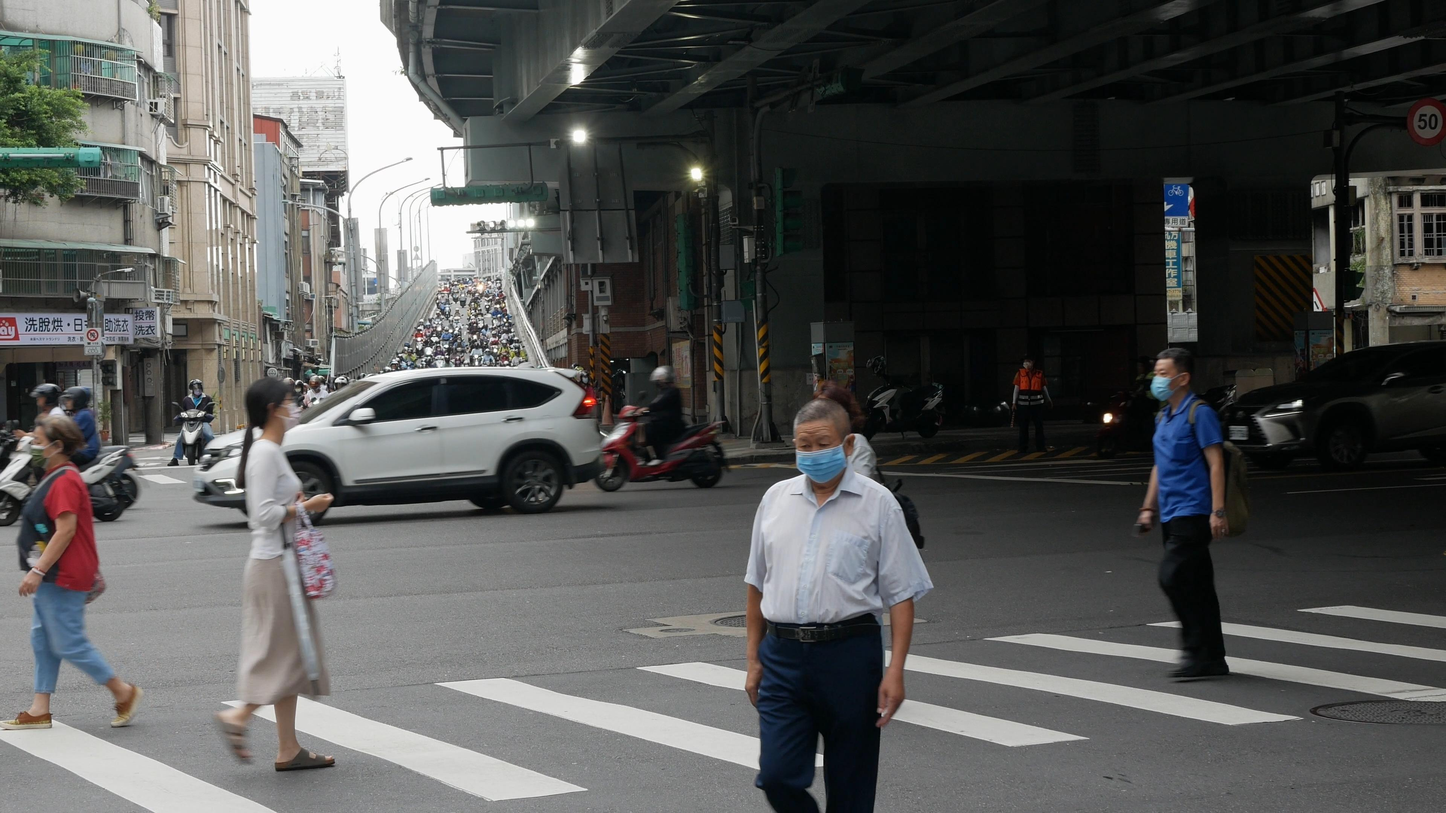driver: (0, 386, 127, 527), (593, 365, 731, 492), (1097, 355, 1159, 458), (167, 379, 216, 466)
helmet: (29, 383, 62, 410), (57, 386, 91, 412), (649, 365, 676, 389), (188, 379, 203, 397), (576, 370, 590, 385), (334, 376, 348, 391), (309, 375, 321, 390), (294, 380, 304, 393)
no-helmet: (792, 398, 856, 484), (246, 376, 302, 433), (30, 412, 85, 469), (1150, 347, 1195, 401)
